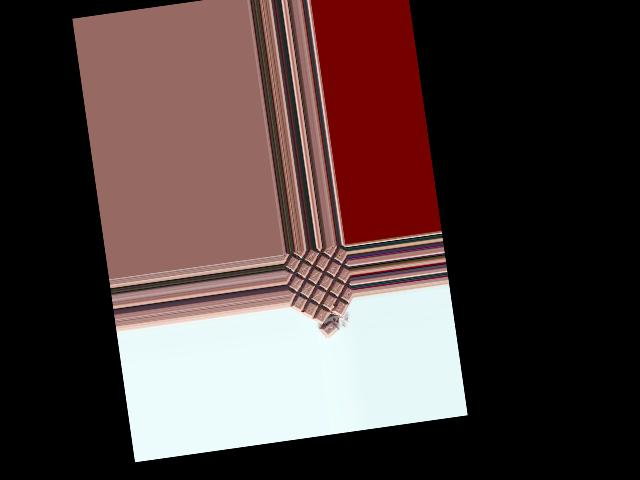chocolate: (285, 244, 355, 333)
